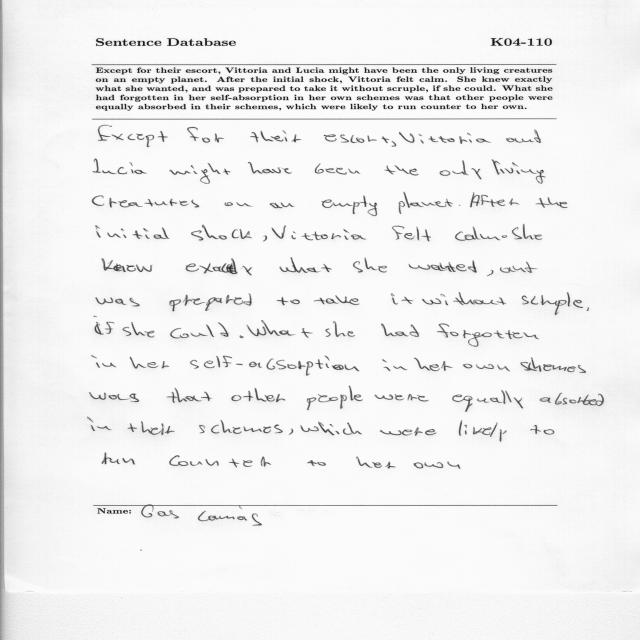word: (190, 356, 360, 376), (437, 323, 539, 347), (452, 390, 523, 412), (98, 125, 168, 147), (169, 294, 252, 312), (272, 226, 367, 241), (92, 195, 199, 208), (492, 159, 546, 184), (307, 386, 363, 410), (522, 293, 583, 315), (169, 455, 271, 468), (170, 163, 231, 184), (246, 320, 313, 338), (399, 192, 453, 214), (199, 420, 283, 434), (186, 259, 252, 276), (321, 196, 377, 216), (399, 132, 491, 144), (459, 420, 507, 442), (521, 357, 586, 373), (96, 225, 170, 239), (422, 293, 506, 305), (191, 225, 252, 241), (170, 323, 229, 339), (408, 260, 476, 273), (279, 257, 332, 273), (540, 393, 604, 406), (93, 159, 147, 174), (300, 422, 362, 435), (440, 161, 482, 180), (232, 388, 286, 402), (470, 193, 519, 208), (102, 258, 153, 272), (455, 226, 501, 241), (167, 388, 212, 403), (128, 421, 175, 435), (250, 130, 301, 142), (187, 127, 224, 143), (392, 226, 431, 241), (381, 323, 419, 337), (248, 162, 292, 174), (380, 427, 437, 436), (123, 322, 155, 338), (353, 258, 387, 273), (414, 358, 453, 371), (89, 392, 139, 402), (315, 164, 360, 175), (506, 129, 541, 143), (512, 224, 542, 240), (325, 321, 355, 337), (356, 457, 396, 469), (324, 134, 377, 143), (130, 357, 169, 369), (314, 295, 360, 305), (500, 262, 537, 273), (96, 298, 140, 307), (102, 453, 135, 465), (94, 316, 114, 335), (375, 394, 429, 401), (463, 364, 510, 372), (536, 197, 568, 208), (87, 417, 112, 431), (385, 166, 419, 176), (92, 355, 117, 368), (382, 359, 407, 371), (530, 425, 555, 435), (391, 294, 413, 305), (276, 297, 300, 305), (414, 462, 443, 468), (382, 136, 397, 147), (270, 203, 295, 209), (225, 202, 253, 207), (307, 460, 326, 466), (447, 461, 460, 469), (487, 270, 494, 276), (289, 428, 293, 435), (263, 236, 267, 242), (502, 235, 507, 238), (239, 335, 244, 338), (586, 307, 589, 311), (459, 205, 460, 206)
